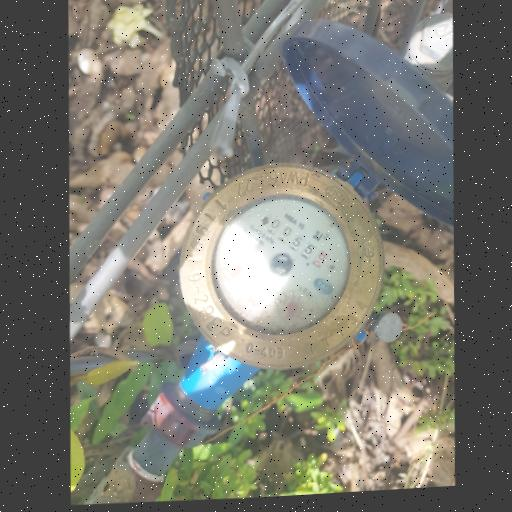0: (266, 215, 284, 235), (277, 224, 294, 244)
5: (300, 240, 318, 261), (288, 231, 305, 252)
8: (310, 248, 329, 268)
border_water_meter_number: (260, 209, 335, 276)
